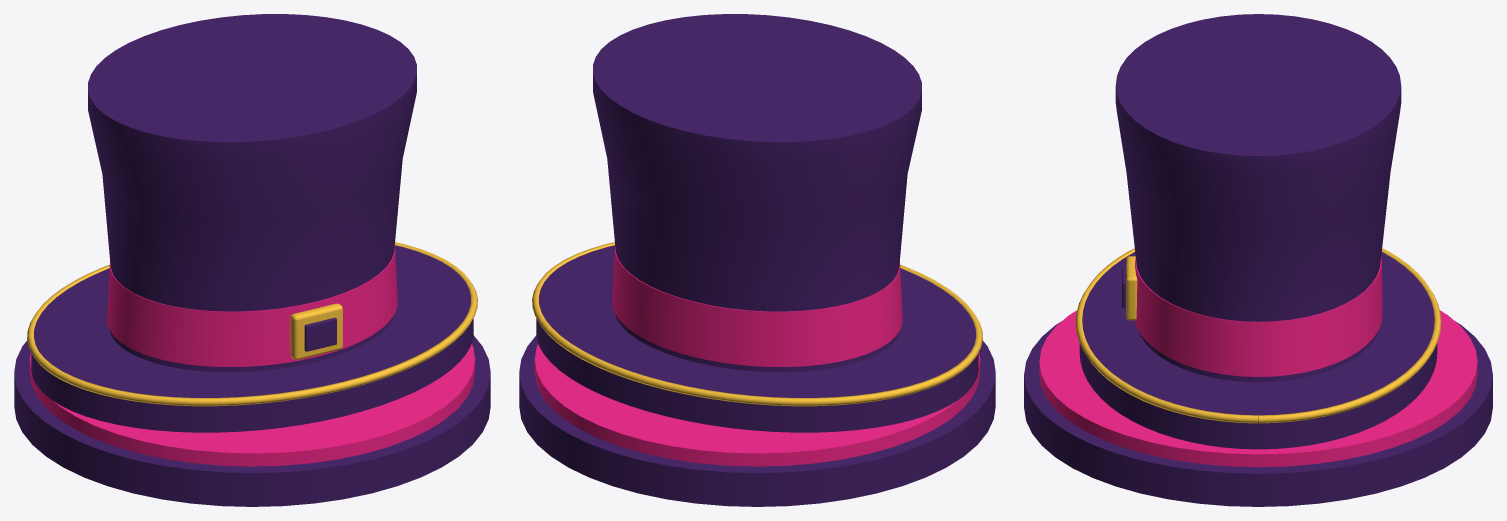
File: desk.hat.top-hat.glb
3 renders of one model, left to right at view 1: azimuth 30°, elevation 25°; view 2: azimuth 150°, elevation 25°; view 3: azimuth 270°, elevation 25°, orthographic.
Visible parts, largest first — view 1: silk_crown, rolled_brim, stand_base, stand_trim, satin_hatband, brim_binding, hatband_buckle, buckle_inset; view 2: silk_crown, rolled_brim, stand_base, satin_hatband, stand_trim, brim_binding; view 3: silk_crown, rolled_brim, stand_base, stand_trim, satin_hatband, brim_binding, hatband_buckle.
Part boxes in pixels (x1,y1,x2,y2): silk_crown: (88, 14, 416, 372); rolled_brim: (31, 245, 473, 432); stand_base: (14, 335, 490, 506); stand_trim: (29, 344, 475, 466); satin_hatband: (107, 245, 397, 366); brim_binding: (27, 242, 477, 406); hatband_buckle: (290, 303, 342, 359); buckle_inset: (304, 317, 336, 351); silk_crown: (593, 14, 921, 372); rolled_brim: (536, 245, 978, 432); stand_base: (519, 335, 995, 506); satin_hatband: (612, 245, 902, 366); stand_trim: (534, 344, 980, 466); brim_binding: (532, 242, 982, 406); silk_crown: (1115, 14, 1401, 382); rolled_brim: (1079, 252, 1437, 449); stand_base: (1024, 321, 1492, 506); stand_trim: (1039, 310, 1477, 467); satin_hatband: (1135, 257, 1382, 376); brim_binding: (1075, 248, 1441, 423); hatband_buckle: (1126, 256, 1137, 320).
Size of the model in its own units: 0.48 by 0.3647 by 0.48.
